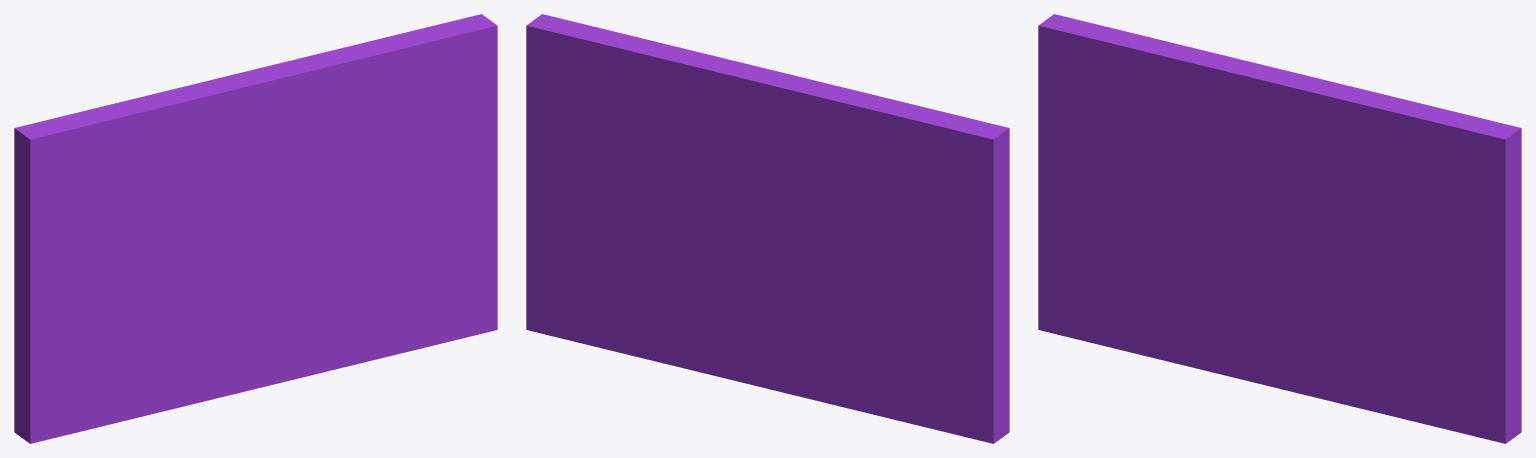
File: Barrier_81_chunks.fbx
3 renders of one model, left to right at view 1: azimuth 30°, elevation 25°; view 2: azimuth 150°, elevation 25°; view 3: azimuth 330°, elevation 25°, orthographic.
Parts seen in each view (by area): view 1: Barrier_81_1, Barrier_81_3, Barrier_81_2, Barrier_81_0; view 2: Barrier_81_1, Barrier_81_2, Barrier_81_0, Barrier_81_3; view 3: Barrier_81_1, Barrier_81_3, Barrier_81_2, Barrier_81_0.
Part boxes in pixels (x1,y1,x2,y2): Barrier_81_1: (264, 14, 497, 373); Barrier_81_3: (14, 89, 290, 289); Barrier_81_2: (14, 247, 316, 443); Barrier_81_0: (126, 33, 400, 182); Barrier_81_1: (526, 14, 752, 371); Barrier_81_2: (698, 233, 1009, 443); Barrier_81_0: (607, 40, 883, 240); Barrier_81_3: (803, 77, 1009, 277); Barrier_81_1: (1272, 108, 1521, 443); Barrier_81_3: (1038, 14, 1298, 246); Barrier_81_2: (1038, 176, 1324, 399); Barrier_81_0: (1165, 41, 1440, 195).
Bounding box in the file's own units: 462 × 288 × 27.2.
